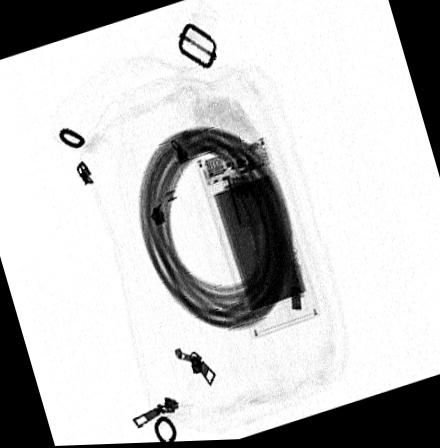Powerbank: (194, 133, 322, 340)
